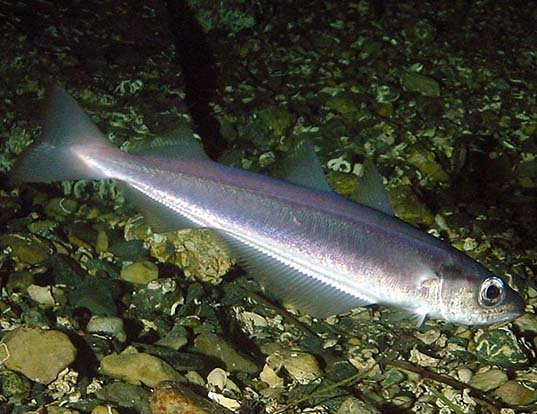kiss: (17, 77, 529, 347)
